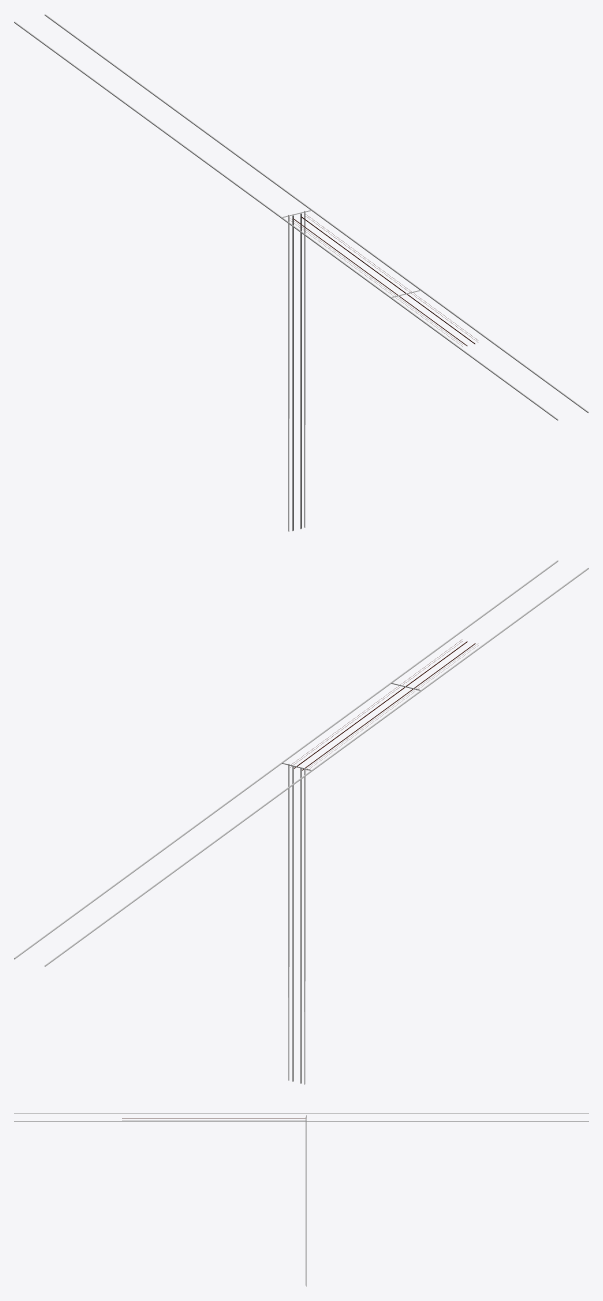
Rendered from BigMirrorConstruction.fbx.
3 views of the same model, one above another, from view 1: azimuth 30°, elevation 25°; view 2: azimuth 150°, elevation 25°; view 3: azimuth 270°, elevation 25° (orthographic). The views are drawn at different scales.
Parts seen in each view (by area): view 1: BigMirrorConstruction; view 2: BigMirrorConstruction; view 3: BigMirrorConstruction.
Boxes of the visible parts, x1,y1,x2,y2 form: BigMirrorConstruction: (14,14,588,531); BigMirrorConstruction: (14,560,588,1084); BigMirrorConstruction: (14,1113,588,1286).
Size of the model in its own units: 16.7 by 161 by 500.
